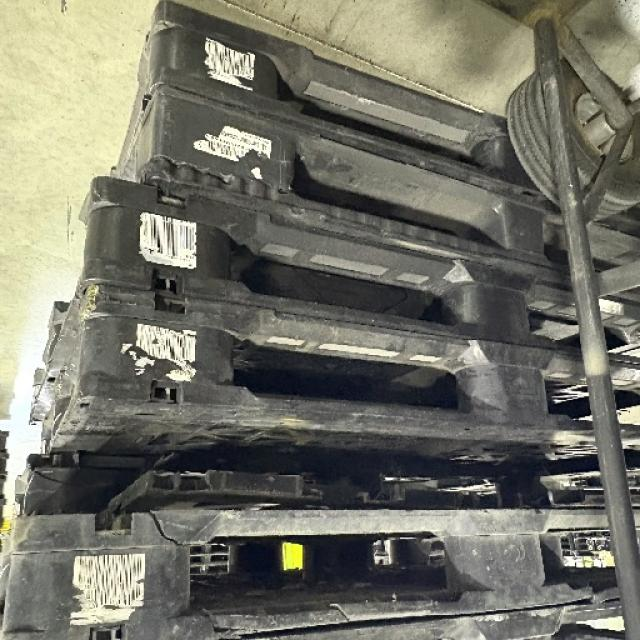igps: (57, 166, 640, 377), (139, 74, 640, 314), (36, 263, 640, 456), (0, 499, 640, 640), (139, 0, 545, 204)
